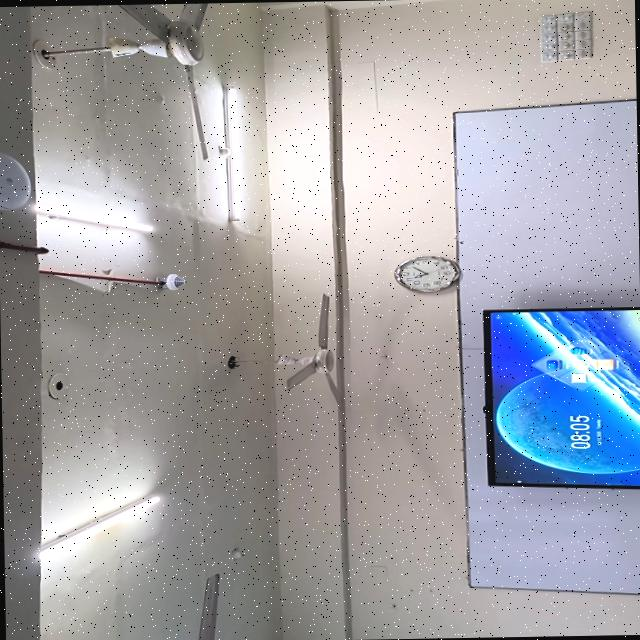Digital board: (483, 306, 640, 486)
Light: (38, 494, 160, 559), (35, 204, 152, 230), (223, 85, 241, 219)
